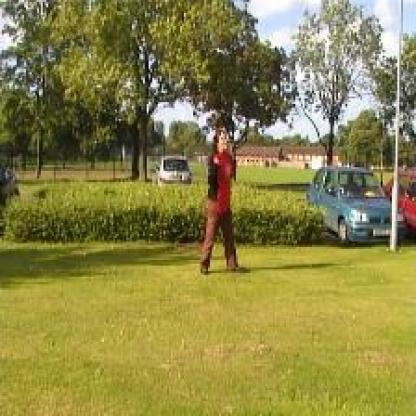other: (210, 148, 235, 214)
